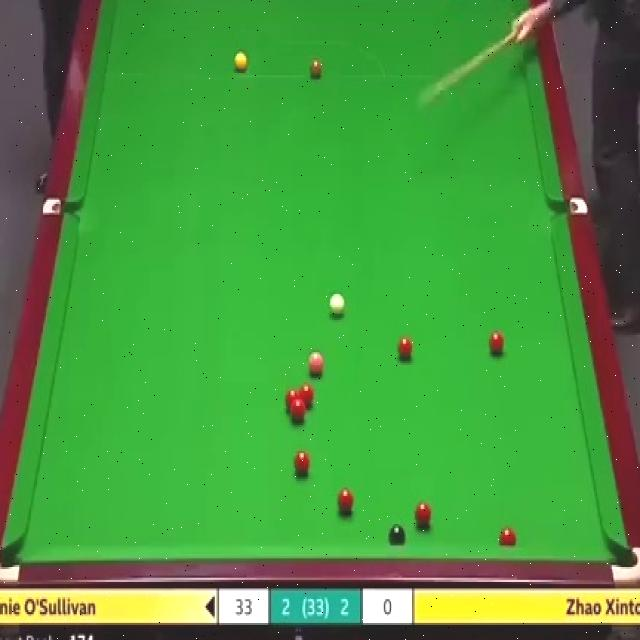black-ball: (388, 523, 405, 545)
brown-ball: (309, 56, 324, 80)
pink-ball: (307, 349, 324, 375)
red-ball: (337, 486, 354, 517), (415, 500, 432, 529), (295, 449, 311, 476), (397, 336, 413, 360), (489, 330, 504, 355), (291, 399, 305, 423), (300, 383, 314, 407), (501, 527, 517, 547), (286, 390, 299, 404)
white-ball: (330, 292, 348, 318)
yellow-ball: (234, 51, 248, 72)
